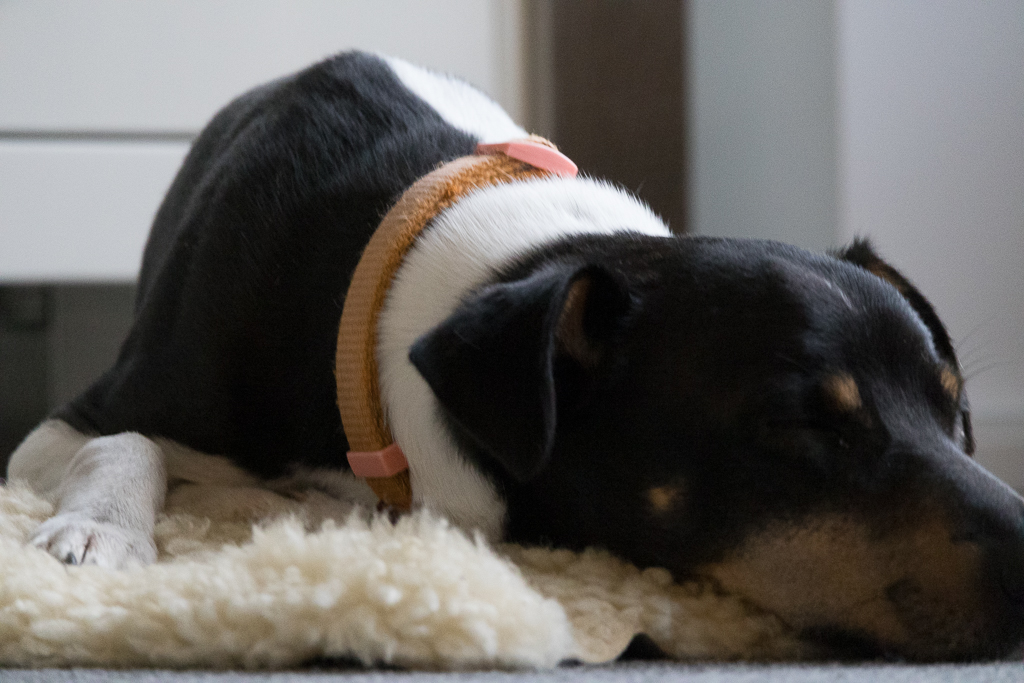Dog: (0, 43, 1024, 660)
